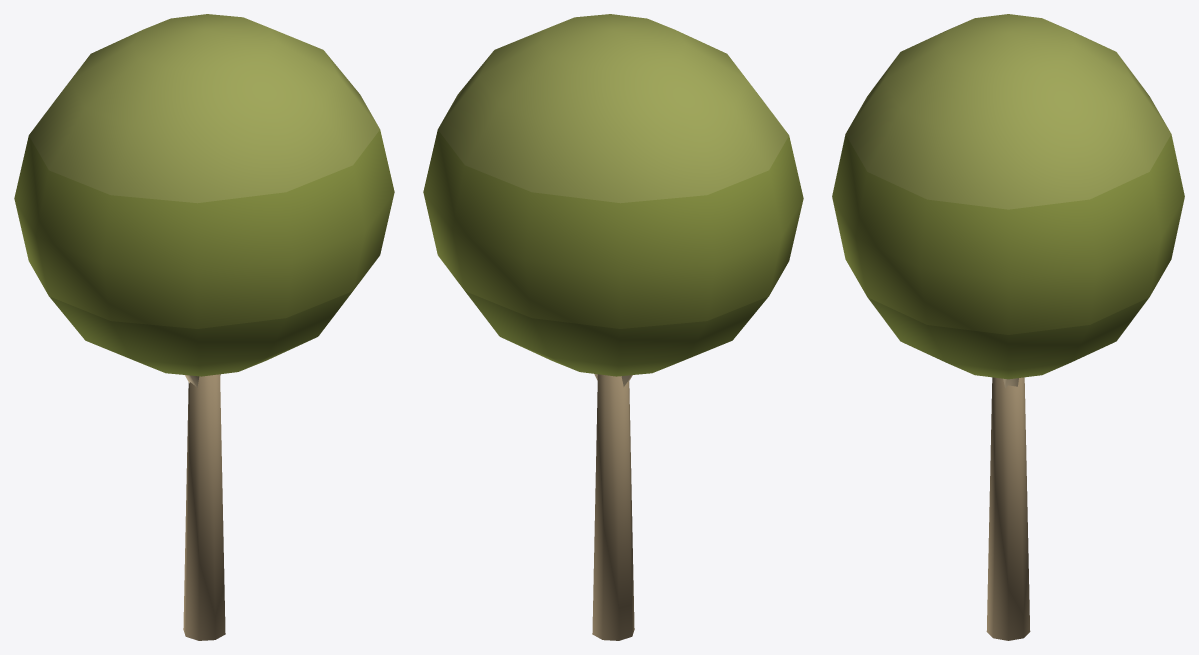
The model's file is wild_tree_round.glb.
3 views of the same model, side by side, from view 1: azimuth 30°, elevation 25°; view 2: azimuth 150°, elevation 25°; view 3: azimuth 270°, elevation 25° (orthographic).
Visible parts, largest first — view 1: wild_tree_round; view 2: wild_tree_round; view 3: wild_tree_round.
Boxes of the visible parts, left/top/right/bottom form: wild_tree_round: left=14, top=14, right=394, bottom=640; wild_tree_round: left=423, top=14, right=803, bottom=640; wild_tree_round: left=832, top=14, right=1184, bottom=640.
Size of the model in its own units: 1.34 by 2.28 by 1.22.
